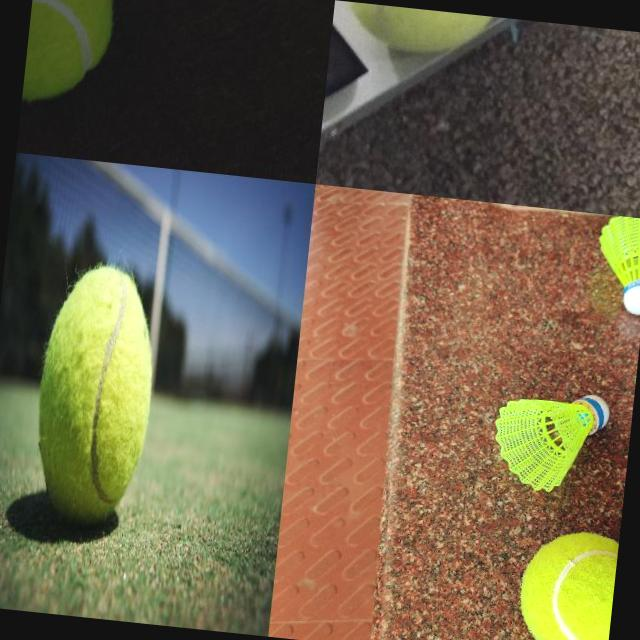Tennis Ball: (26, 260, 164, 527), (512, 524, 619, 640), (330, 0, 505, 62), (22, 0, 118, 108)
